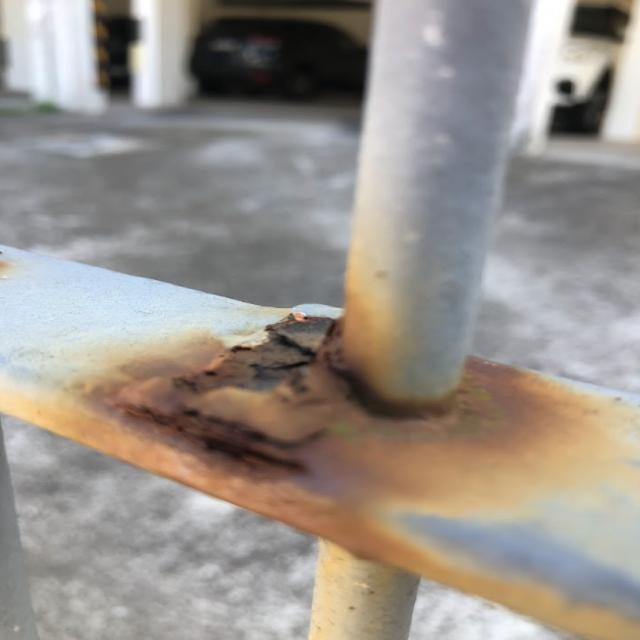Corrosion: (39, 309, 596, 615)
